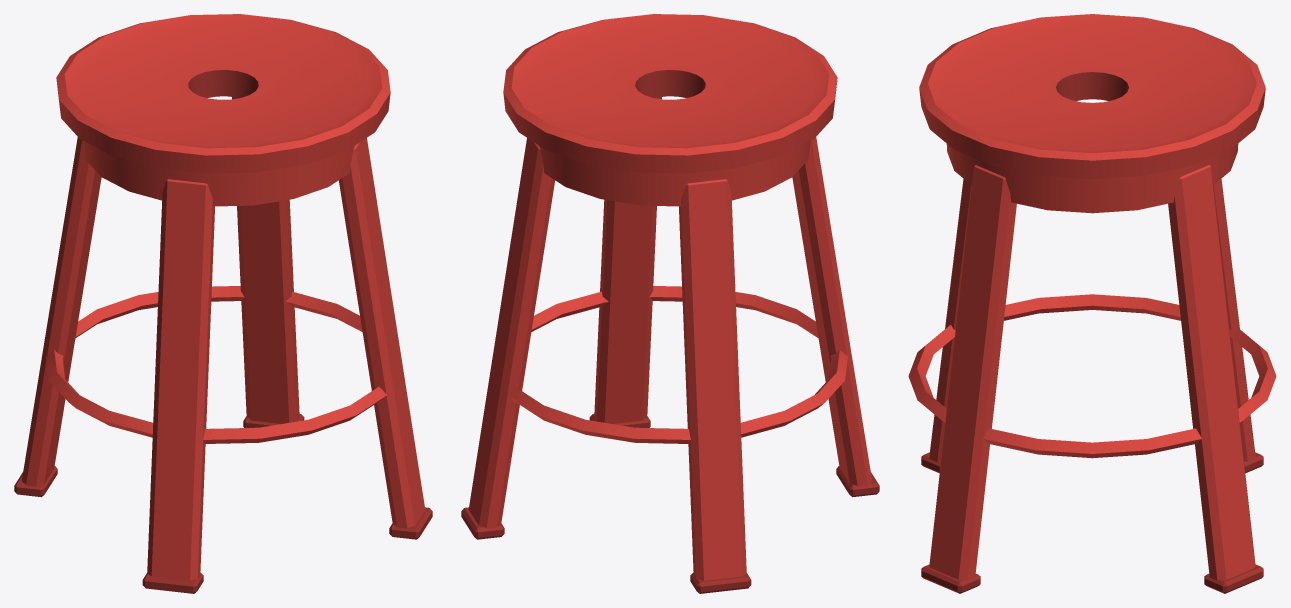
Rendered from SC_Home_Plastic_Stool_Tall_Red.gltf.
3 renders of one model, left to right at view 1: azimuth 30°, elevation 25°; view 2: azimuth 150°, elevation 25°; view 3: azimuth 270°, elevation 25°, orthographic. The views are drawn at different scales.
Parts seen in each view (by area): view 1: SC_Home_Plastic_Stool_Tall_Red; view 2: SC_Home_Plastic_Stool_Tall_Red; view 3: SC_Home_Plastic_Stool_Tall_Red.
Part boxes in pixels (x1=…): SC_Home_Plastic_Stool_Tall_Red: x1=14, y1=14, x2=432, y2=593; SC_Home_Plastic_Stool_Tall_Red: x1=461, y1=14, x2=879, y2=593; SC_Home_Plastic_Stool_Tall_Red: x1=908, y1=14, x2=1276, y2=593.
Bounding box in the file's own units: 0.342 × 0.45 × 0.342.
Materials: 1 (1 with a texture image).
